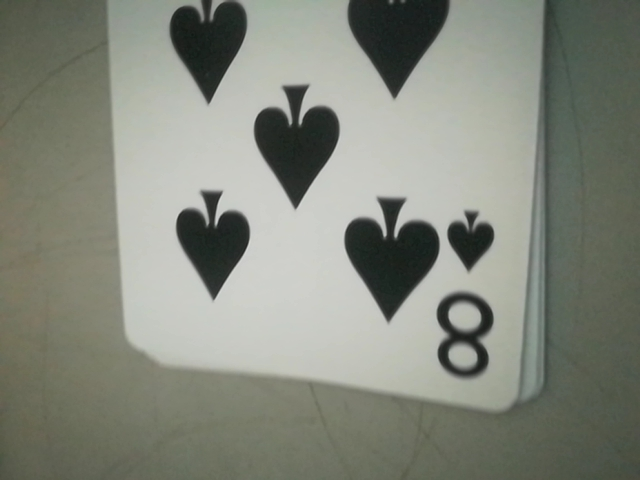ht 8: (430, 203, 507, 390)
